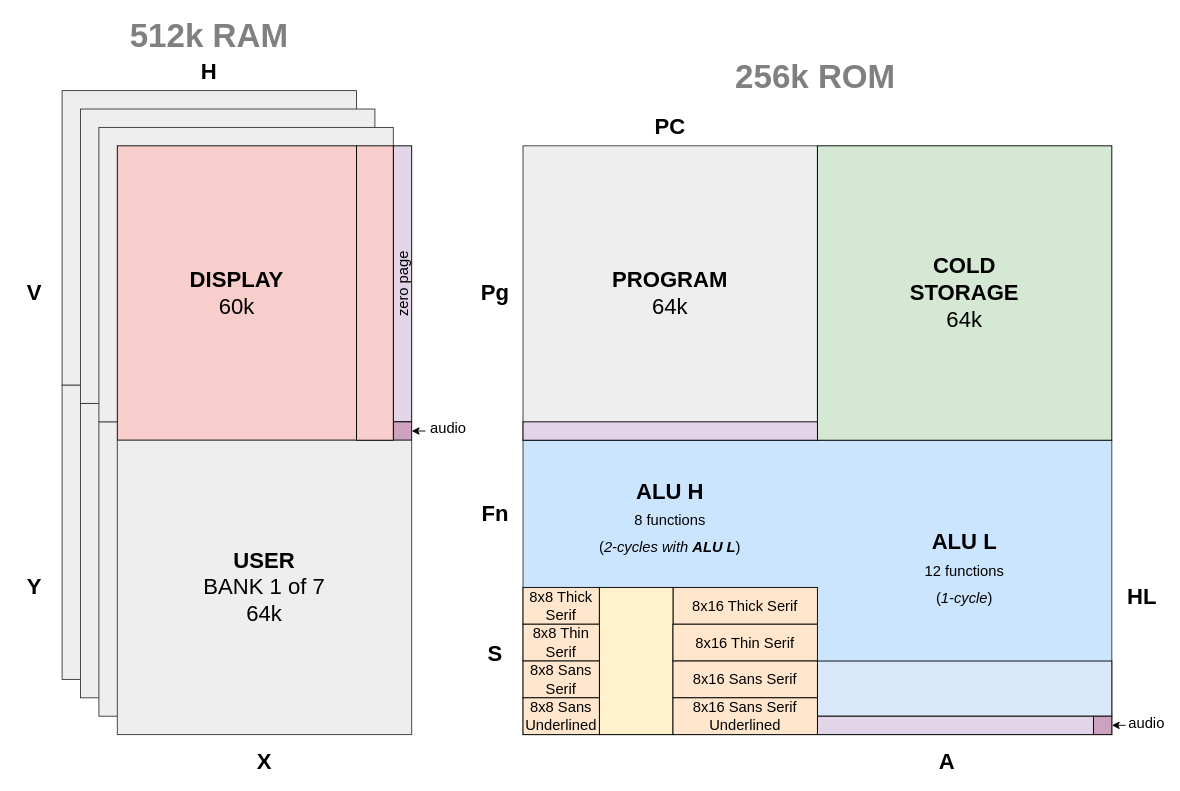
The diagram is 1180 pixels wide and 791 high, and some of its shapes have lost their labels. Here are the shapes that lost their labels. From the top down, the centre of each, then its label:
[374,292]: SYSTEM 4k
[669,430]: boot page
[635,660]: Dithering Patterns
[964,688]: 48 Unary Functions
[954,725]: 16 Unary Functions ( H defined )
